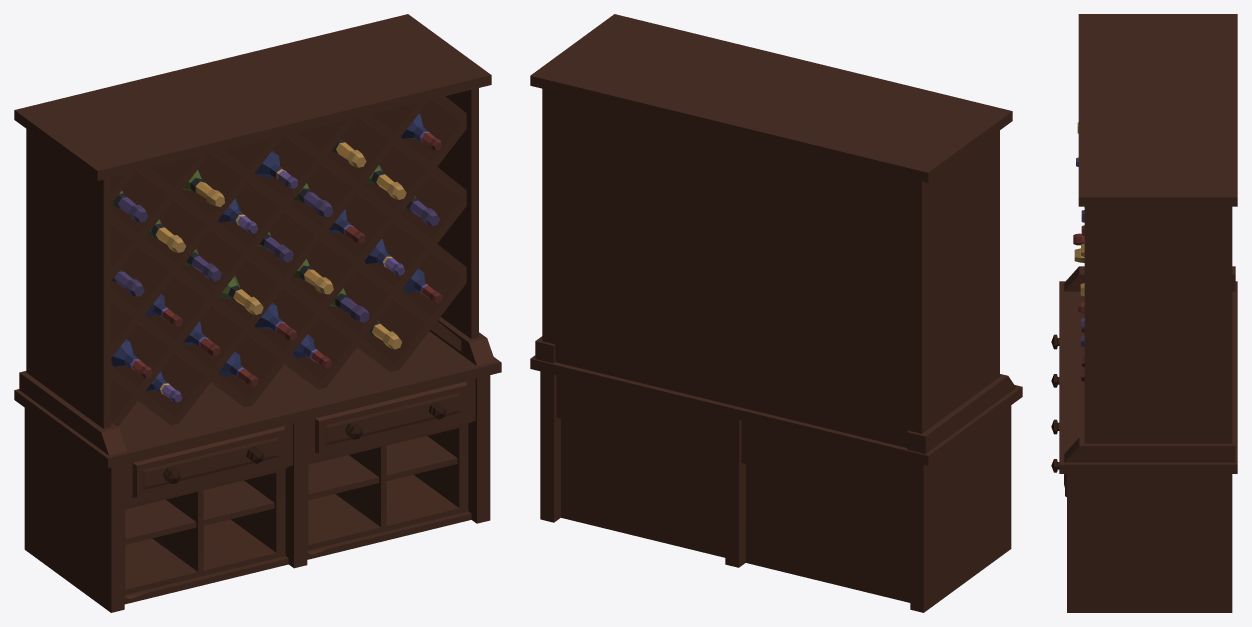
The model's file is kingdom_SM_Prop_Cabinet_Wine_01.gltf.
3 renders of one model, left to right at view 1: azimuth 30°, elevation 25°; view 2: azimuth 150°, elevation 25°; view 3: azimuth 270°, elevation 25°, orthographic. The views are drawn at different scales.
Visible parts, largest first — view 1: SM_Prop_Cabinet_Wine_01; view 2: SM_Prop_Cabinet_Wine_01; view 3: SM_Prop_Cabinet_Wine_01.
Boxes of the visible parts, left/top/right/bottom form: SM_Prop_Cabinet_Wine_01: left=14, top=14, right=501, bottom=612; SM_Prop_Cabinet_Wine_01: left=530, top=14, right=1022, bottom=612; SM_Prop_Cabinet_Wine_01: left=1051, top=14, right=1237, bottom=612.
Bounding box in the file's own units: 2.07 × 2.21 × 0.8898.
Materials: 1 (1 with a texture image).
